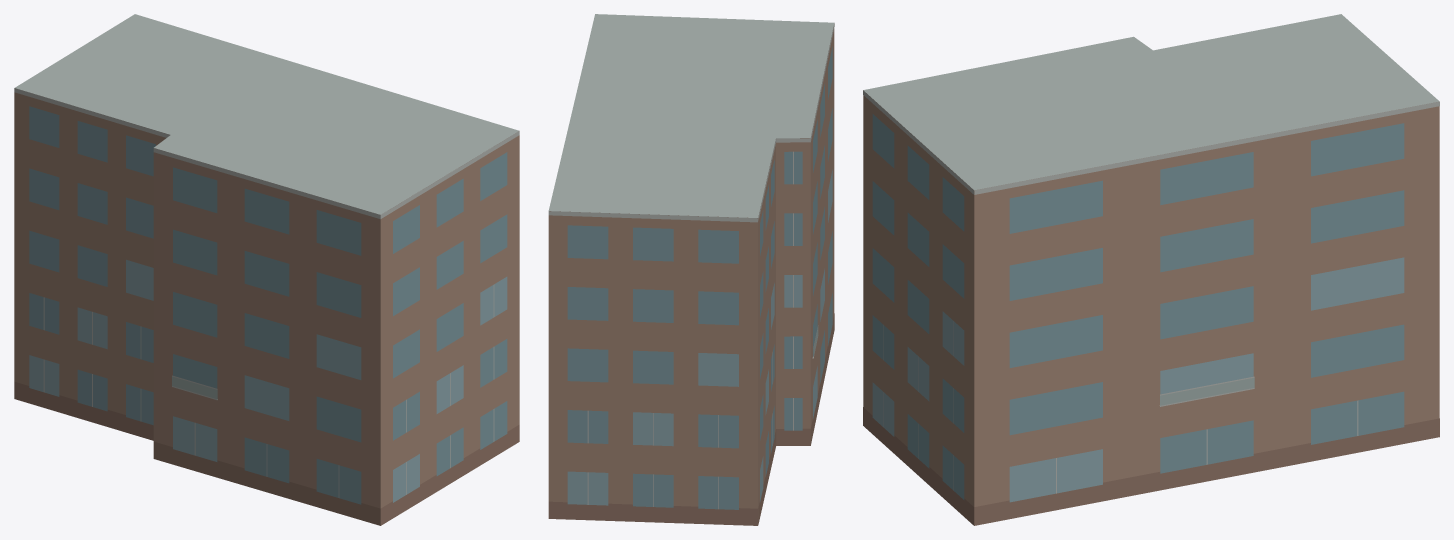
Rendered from survey-upis-32601156.glb.
3 views of the same model, side by side, from view 1: azimuth 30°, elevation 25°; view 2: azimuth 150°, elevation 25°; view 3: azimuth 270°, elevation 25° (orthographic). The views are drawn at different scales.
Parts seen in each view (by area): view 1: survey-upis-32601156.tmp; view 2: survey-upis-32601156.tmp; view 3: survey-upis-32601156.tmp.
Part boxes in pixels (x1=…): survey-upis-32601156.tmp: x1=14, y1=14, x2=519, y2=525; survey-upis-32601156.tmp: x1=548, y1=14, x2=834, y2=525; survey-upis-32601156.tmp: x1=863, y1=14, x2=1439, y2=525.
Bounding box in the file's own units: 19.67 × 17.45 × 27.19.
